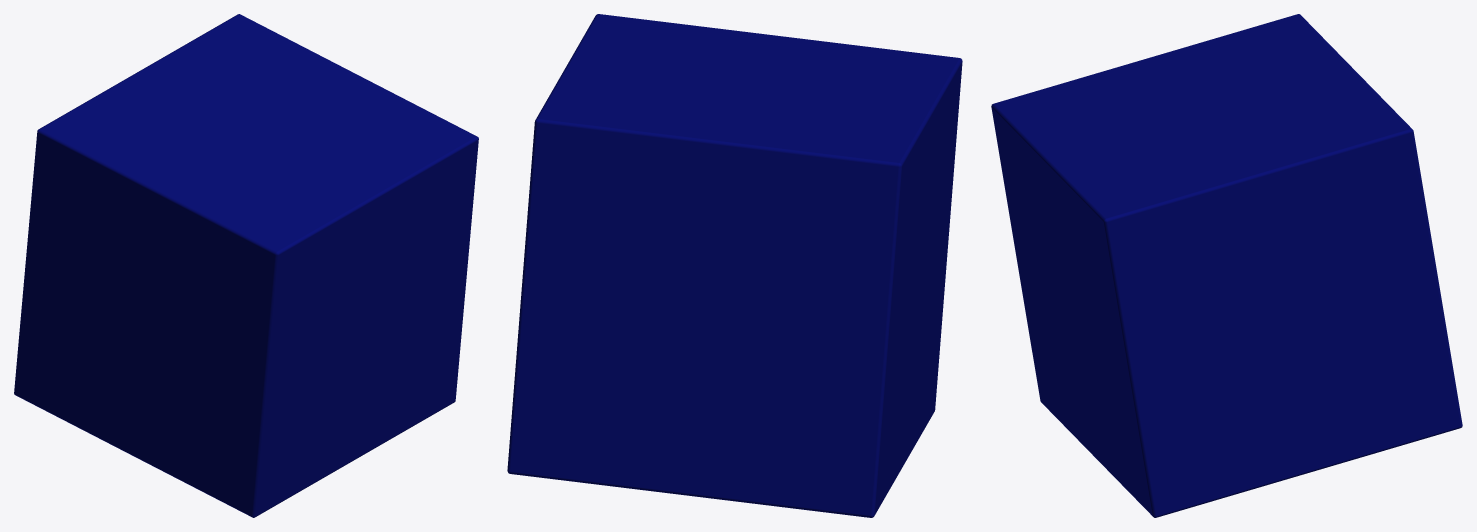
3 views of the same model, side by side, from view 1: azimuth 30°, elevation 25°; view 2: azimuth 150°, elevation 25°; view 3: azimuth 270°, elevation 25° (orthographic). The views are drawn at different scales.
Visible parts, largest first — view 1: node_id30; view 2: node_id30; view 3: node_id30.
Part boxes in pixels (bbox=[...]): node_id30: bbox=[14, 14, 478, 517]; node_id30: bbox=[507, 14, 962, 517]; node_id30: bbox=[991, 14, 1462, 517].
Size of the model in its own units: 0.6546 by 0.6026 by 0.7223.
1 material, 1 textured.
